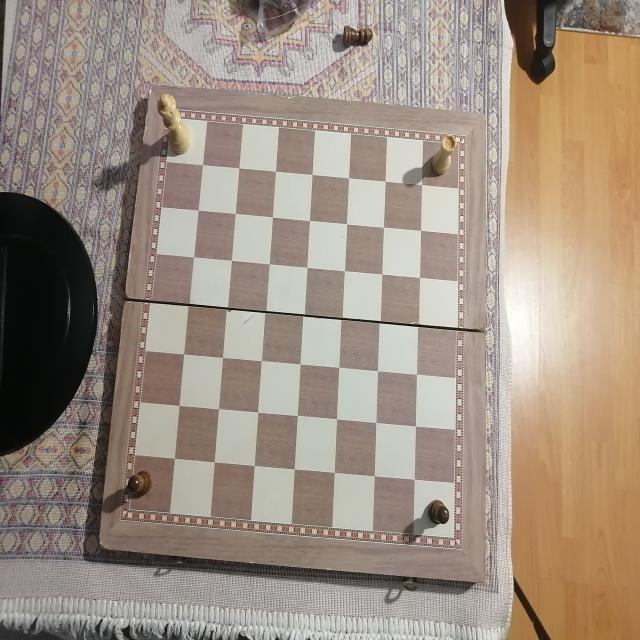corners: (138, 78, 166, 100), (94, 532, 114, 552), (478, 574, 498, 592), (479, 109, 496, 129)
